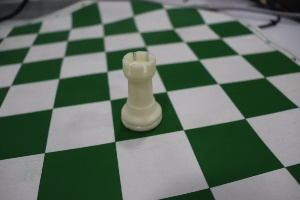white_rook: (114, 39, 169, 135)
